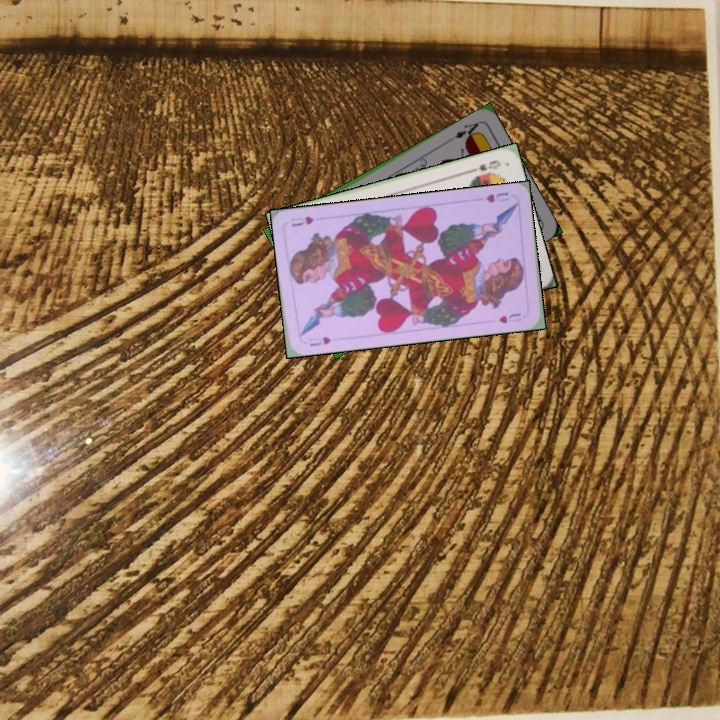EA: (446, 118, 483, 143)
HU: (482, 188, 511, 205), (305, 333, 334, 349)
SO: (465, 156, 503, 176)
